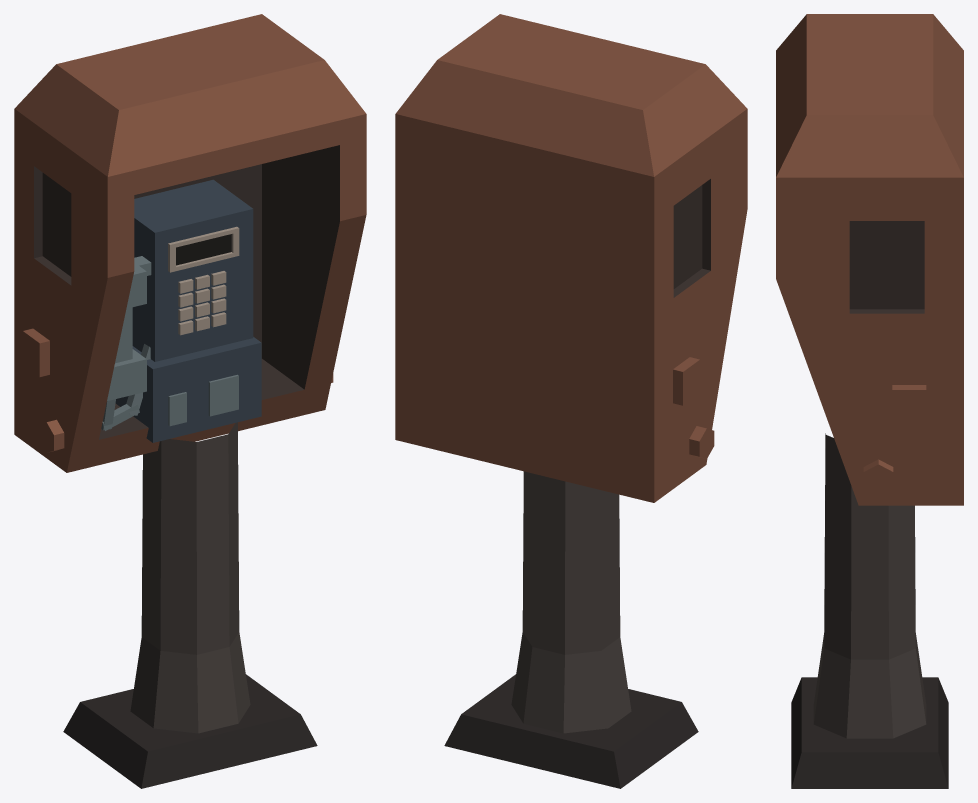
Rendered from payphone-stand-f97728.glb.
3 renders of one model, left to right at view 1: azimuth 30°, elevation 25°; view 2: azimuth 150°, elevation 25°; view 3: azimuth 270°, elevation 25°, orthographic.
Visible parts, largest first — view 1: payphone-stand-mesh; view 2: payphone-stand-mesh; view 3: payphone-stand-mesh.
Boxes of the visible parts, x1=… form: payphone-stand-mesh: x1=14, y1=14, x2=366, y2=788; payphone-stand-mesh: x1=395, y1=14, x2=747, y2=788; payphone-stand-mesh: x1=776, y1=14, x2=963, y2=788.
Bounding box in the file's own units: 0.95 × 2.2 × 0.55.
